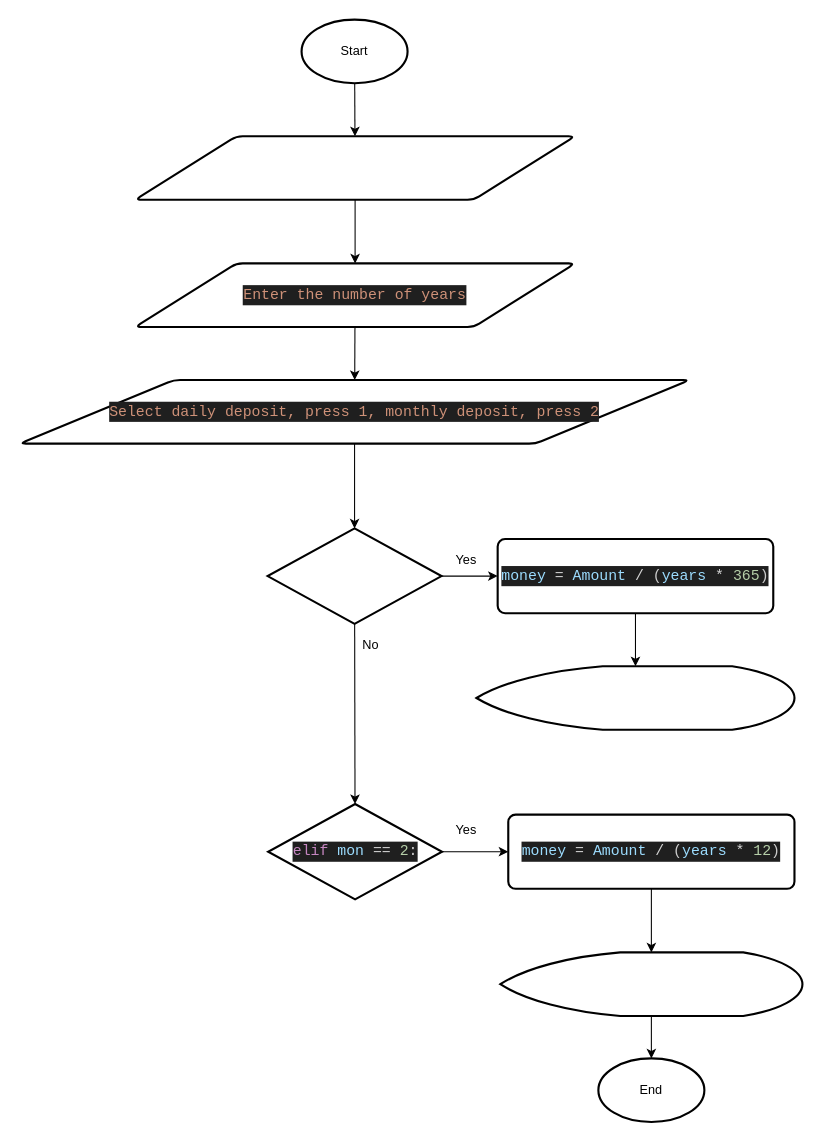
The diagram is 821 pixels wide and 1141 high, and some of its shapes have lost their labels. Each missing label, with the centre of its shape:
Enter the amount you want to deposit: the point at 355,167
if mon == 1 :: the point at 354,575
print (( 'Amount of money to be collected daily' ), money ): the point at 635,697
print (( 'Amount to be collected monthly' ), money ): the point at 651,984
